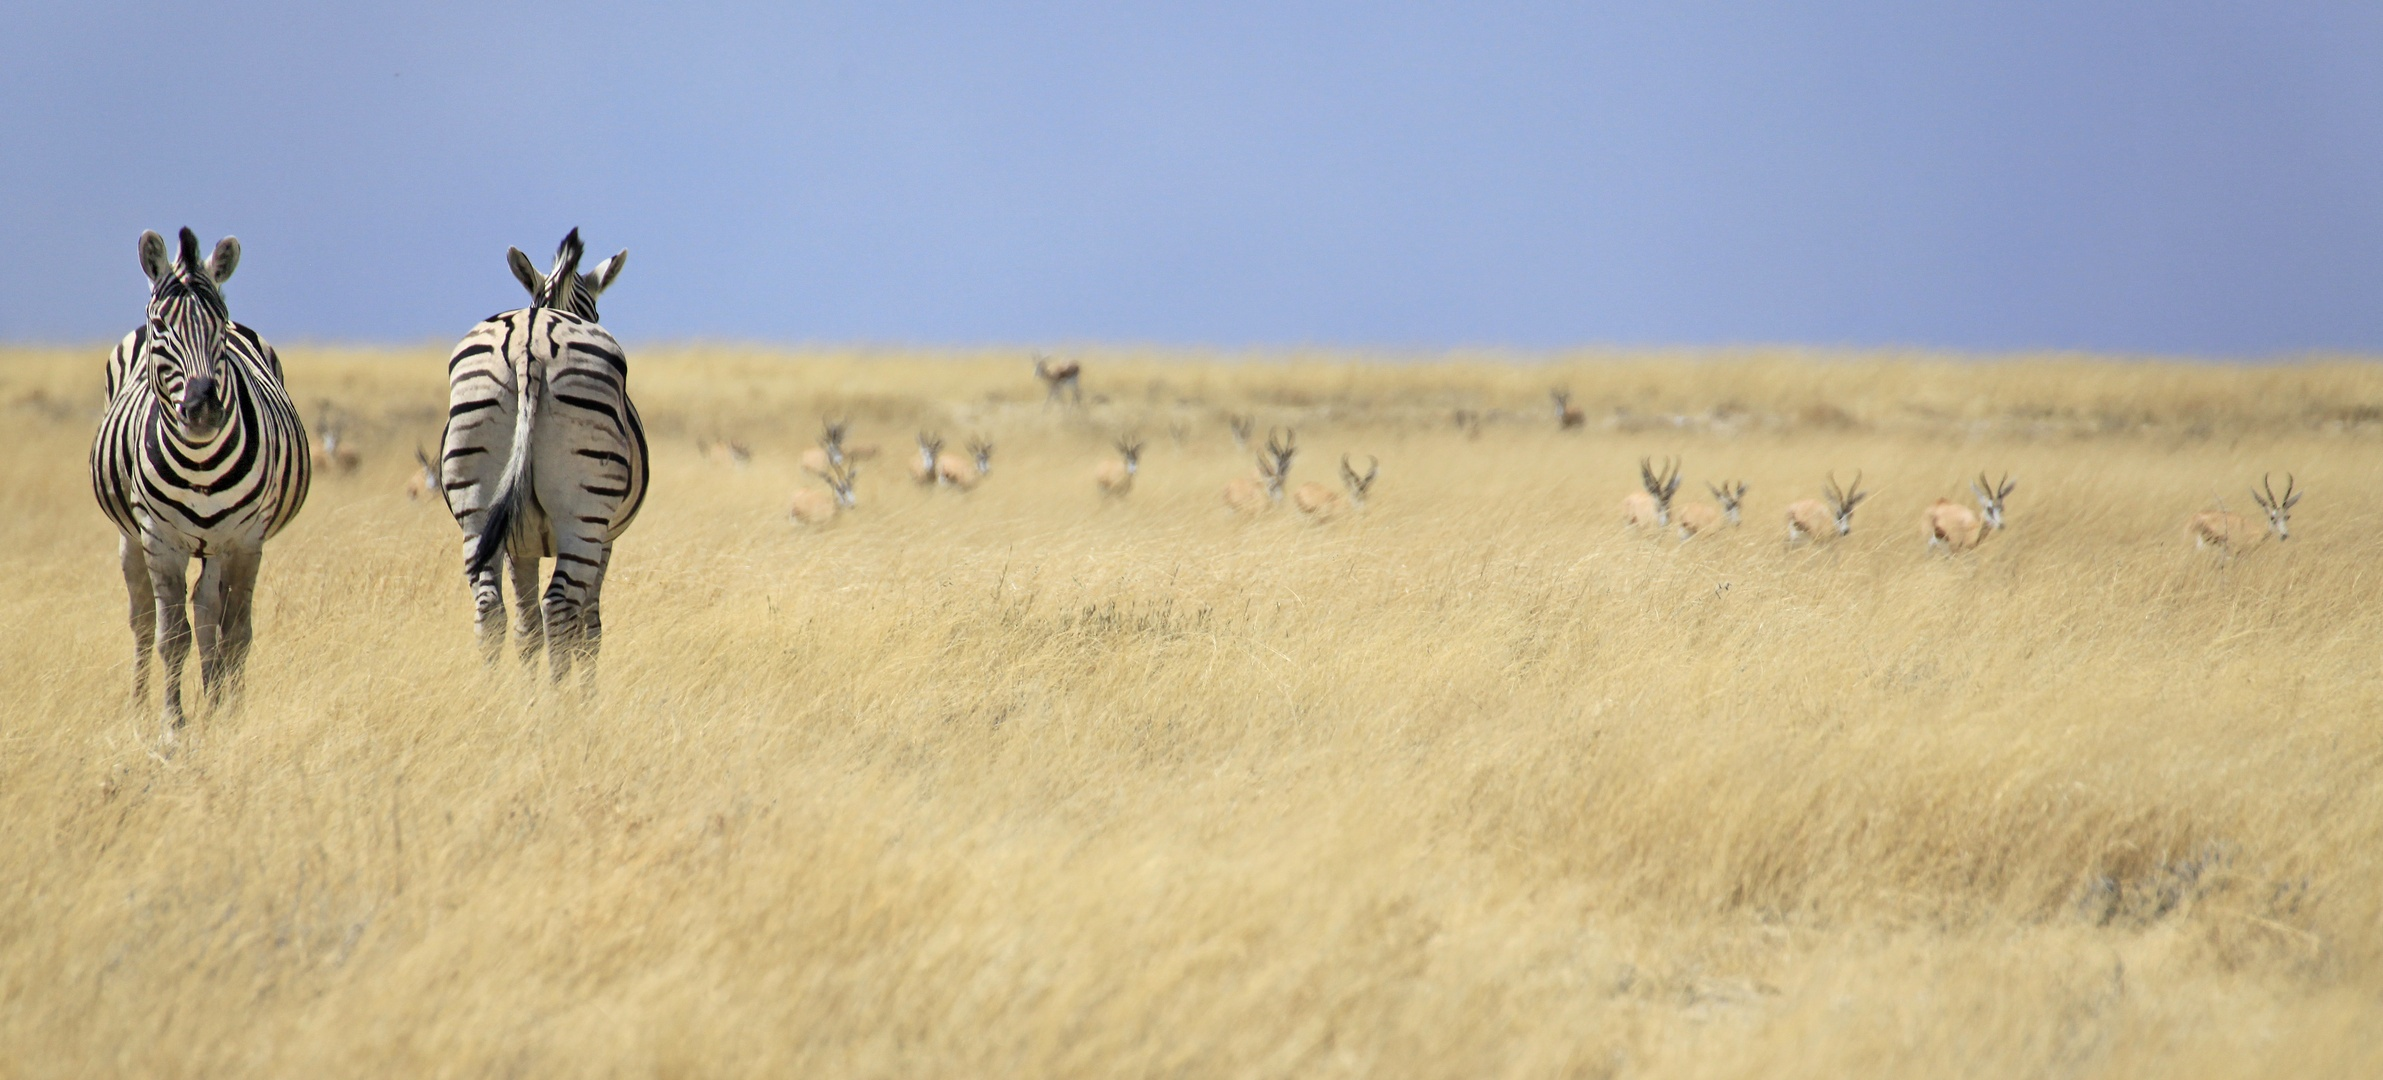zebra: (78, 223, 333, 729), (426, 223, 650, 702)
